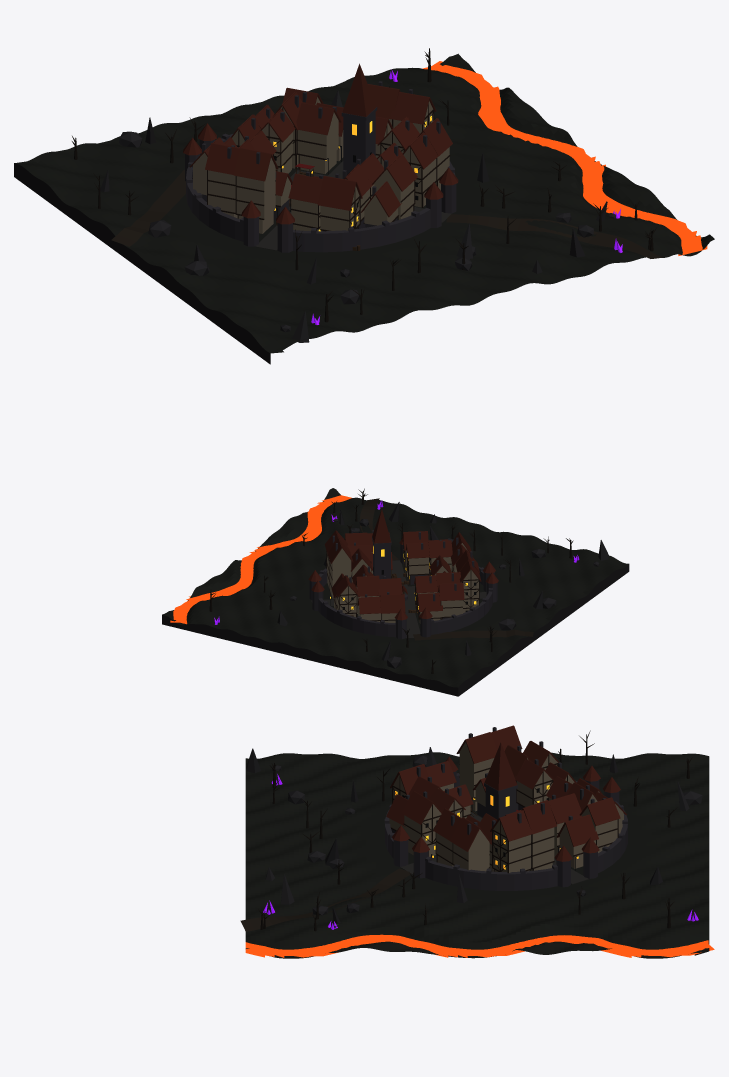
File: chunk-3-3.glb
3 renders of one model, top to bottom at view 1: azimuth 30°, elevation 25°; view 2: azimuth 150°, elevation 25°; view 3: azimuth 270°, elevation 25°, orthographic. The views are drawn at different scales.
Parts seen in each view (by area): view 1: Ash_Ground, Roof_Tile, Plaster, Castle_Stone, Lava, Dark_Rock, Cliff_Rock, Dirt_Road, Timber, Dead_Wood, Cobblestone; view 2: Ash_Ground, Roof_Tile, Cliff_Rock, Castle_Stone, Plaster, Lava, Dark_Rock, Dirt_Road, Timber, Dead_Wood, Cobblestone; view 3: Ash_Ground, Roof_Tile, Plaster, Castle_Stone, Lava, Dark_Rock, Timber, Dead_Wood, Dirt_Road.
Part boxes in pixels (box(x1,y1,x2,y2)): Ash_Ground: box(14, 53, 714, 353); Roof_Tile: box(183, 63, 458, 224); Plaster: box(193, 97, 449, 233); Castle_Stone: box(185, 81, 456, 252); Lava: box(422, 61, 707, 255); Dark_Rock: box(100, 90, 615, 342); Cliff_Rock: box(14, 163, 270, 364); Dirt_Road: box(111, 170, 662, 258); Timber: box(192, 104, 450, 231); Dead_Wood: box(72, 48, 656, 322); Cobblestone: box(255, 161, 451, 250); Ash_Ground: box(162, 488, 628, 687); Roof_Tile: box(308, 509, 498, 620); Cliff_Rock: box(162, 564, 629, 696); Castle_Stone: box(309, 530, 497, 639); Plaster: box(327, 543, 478, 623); Lava: box(170, 495, 351, 624); Dark_Rock: box(277, 502, 608, 668); Dirt_Road: box(359, 498, 533, 640); Timber: box(326, 540, 479, 621); Dead_Wood: box(209, 488, 573, 673); Cobblestone: box(311, 560, 486, 638); Ash_Ground: box(245, 752, 709, 958); Roof_Tile: box(386, 725, 626, 861); Plaster: box(389, 742, 623, 872); Castle_Stone: box(384, 727, 627, 890); Lava: box(245, 934, 714, 957); Dark_Rock: box(246, 747, 702, 928); Timber: box(390, 754, 623, 873); Dead_Wood: box(258, 730, 692, 931); Dirt_Road: box(240, 868, 411, 931).
Bounding box in the file's own units: 121 × 24.4 × 121.
